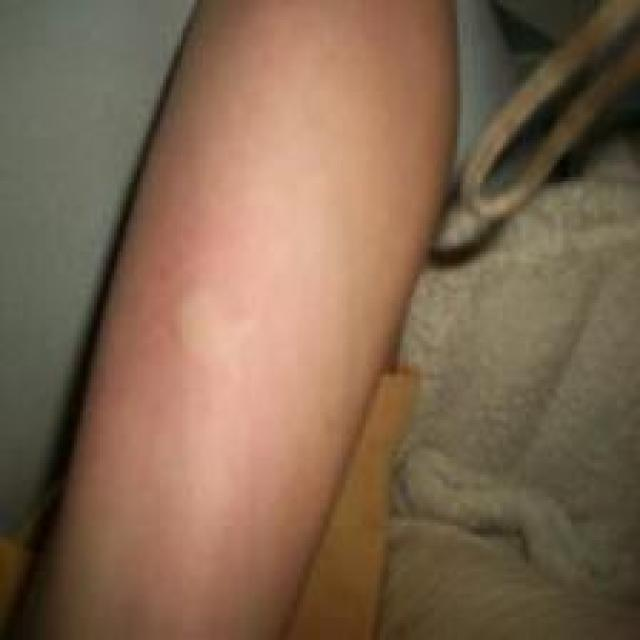sinek: (154, 260, 273, 391)
